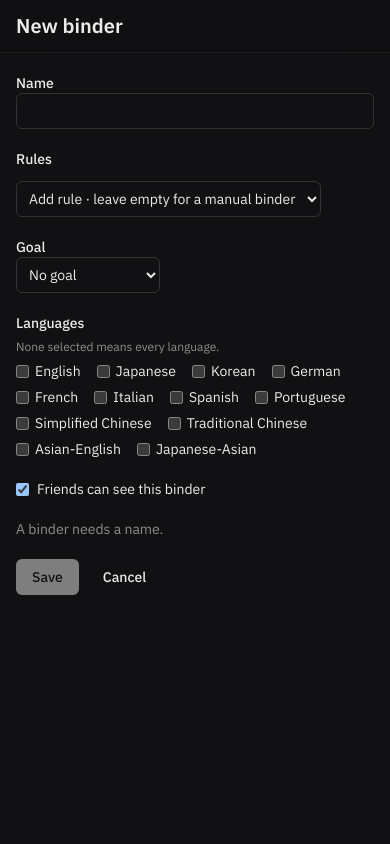
Scenario: the live preview › previews a complete rule after typing, not an incomplete one
Step 1. Select "Name" in the dropdown named "Add rule" → (168, 199), box [16, 181, 321, 217]
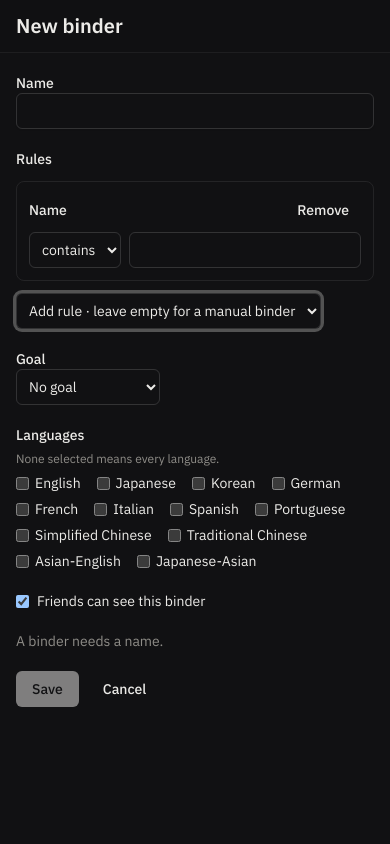
Step 2. Type "Blue" into the field named "Name value" → (245, 250), box [129, 232, 361, 268]
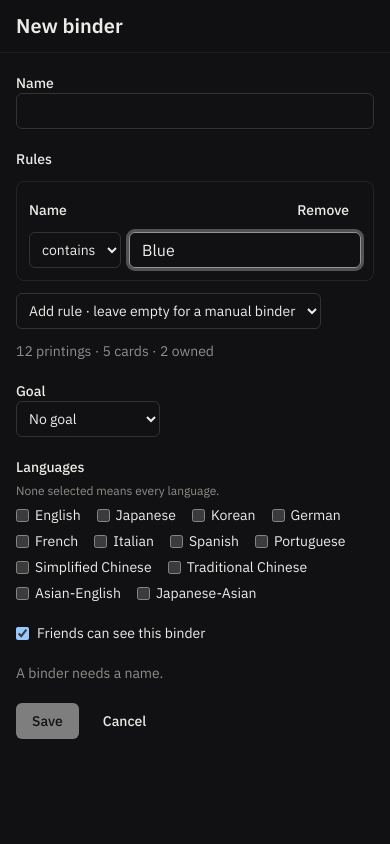
expect the text "12 printings · 5 cards · 2 owned" is shown: met, box [16, 342, 214, 360]
